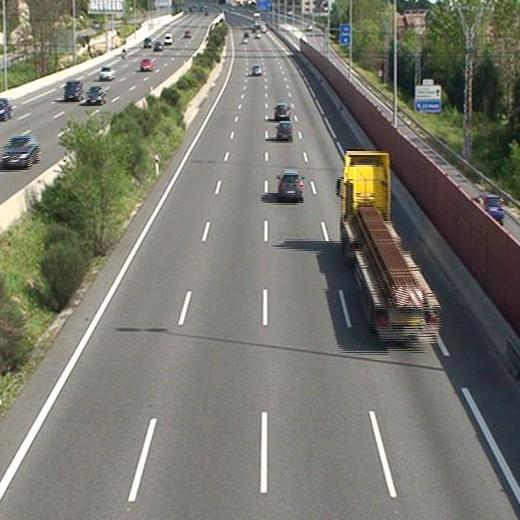car: (276, 168, 305, 199), (275, 121, 293, 141), (274, 102, 289, 120), (250, 65, 262, 75)
truck: (338, 151, 442, 340)
